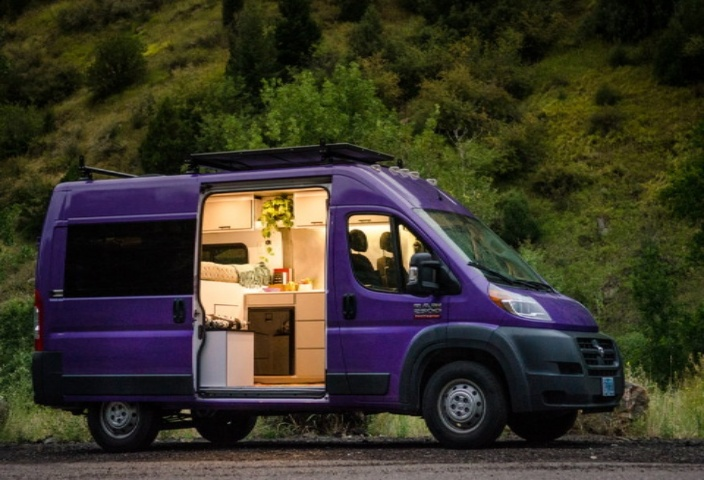van: (44, 150, 625, 453)
